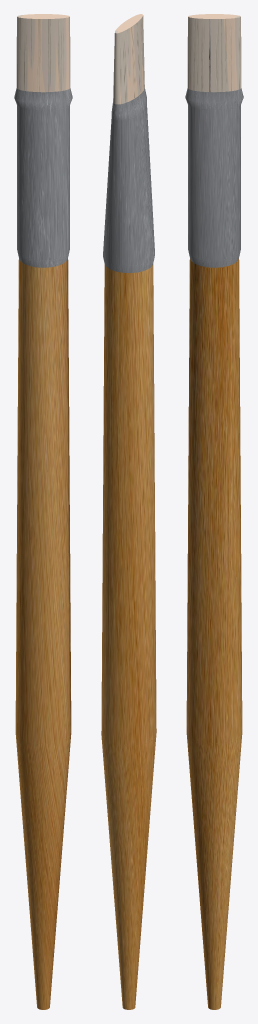
File: Pinsel.fbx
3 views of the same model, side by side, from view 1: azimuth 90°, elevation 25°; view 2: azimuth 150°, elevation 25°; view 3: azimuth 270°, elevation 25° (orthographic).
Parts seen in each view (by area): view 1: pCylinder1; view 2: pCylinder1; view 3: pCylinder1.
Boxes of the visible parts, left/top/right/bottom form: pCylinder1: left=14, top=14, right=72, bottom=1009; pCylinder1: left=101, top=14, right=156, bottom=1009; pCylinder1: left=185, top=14, right=243, bottom=1009.
Bounding box in the file's own units: 0.7972 × 15.63 × 0.8387.
